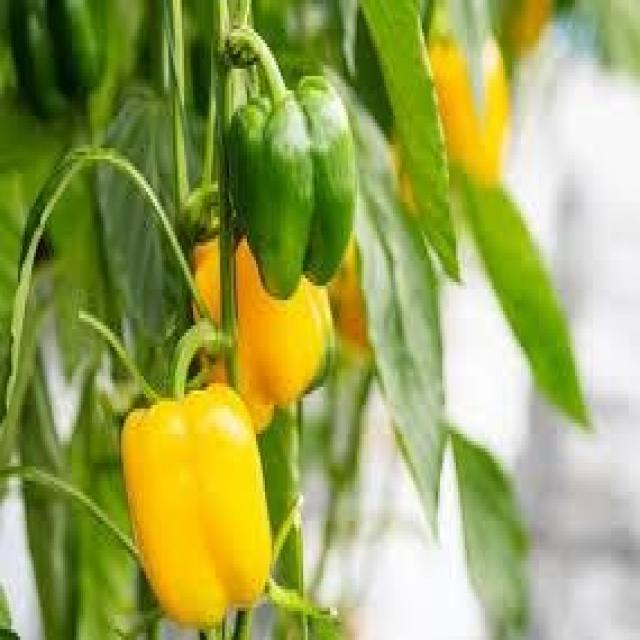bell_pepper: (232, 79, 362, 300)
